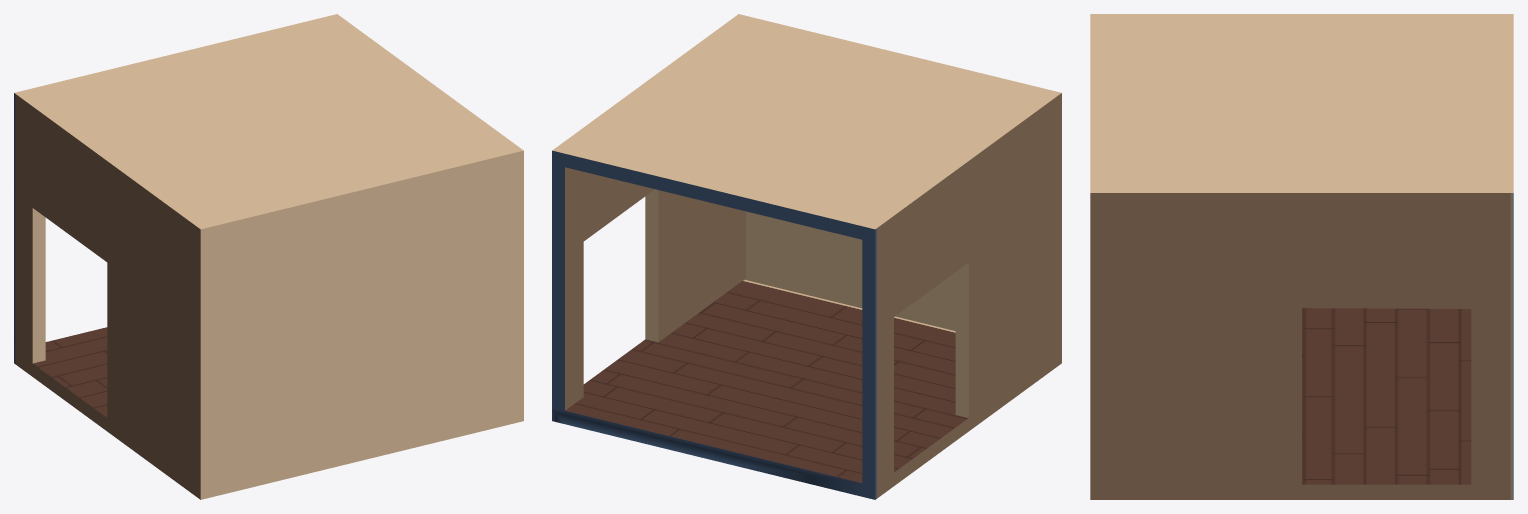
The model's file is Hallway1UP_FBX.fbx.
The picture shows the model from 3 angles, left to right: view 1: azimuth 30°, elevation 25°; view 2: azimuth 150°, elevation 25°; view 3: azimuth 270°, elevation 25°; orthographic projection. The views are drawn at different scales.
Visible parts, largest first — view 1: Object; view 2: Object; view 3: Object.
Part boxes in pixels (x1,y1,x2,y2): Object: (14, 14, 523, 499); Object: (552, 14, 1061, 499); Object: (1090, 14, 1513, 499).
Size of the model in its own units: 500 by 400 by 500.
